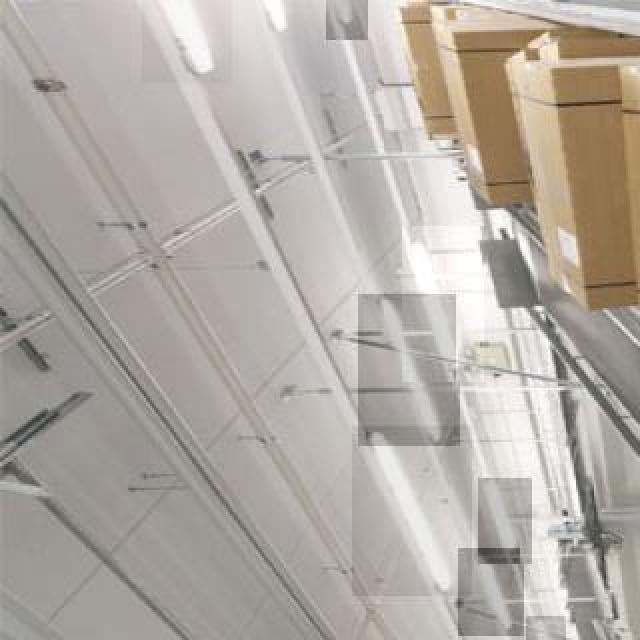fluorescent tube: (372, 431, 452, 585), (382, 298, 449, 458), (150, 0, 234, 77), (477, 549, 515, 633), (534, 614, 564, 640)
